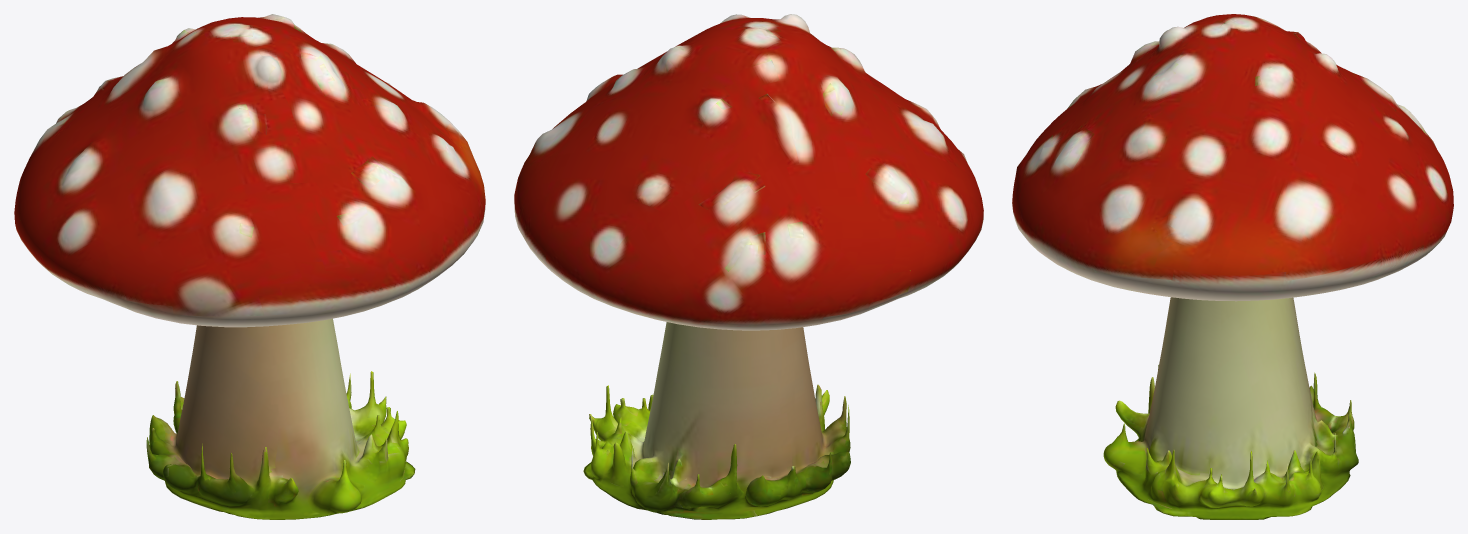
File: toadstool.glb
3 views of the same model, side by side, from view 1: azimuth 30°, elevation 25°; view 2: azimuth 150°, elevation 25°; view 3: azimuth 270°, elevation 25° (orthographic). The views are drawn at different scales.
Visible parts, largest first — view 1: model; view 2: model; view 3: model.
Part boxes in pixels (box(x1,y1,x2,y2)): model: box(14, 14, 485, 519); model: box(514, 14, 983, 519); model: box(1012, 14, 1453, 519).
Size of the model in its own units: 1.53 by 1.64 by 1.53.
Materials: 1 (1 with a texture image).
